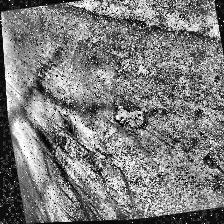pothole: (109, 103, 145, 133)
